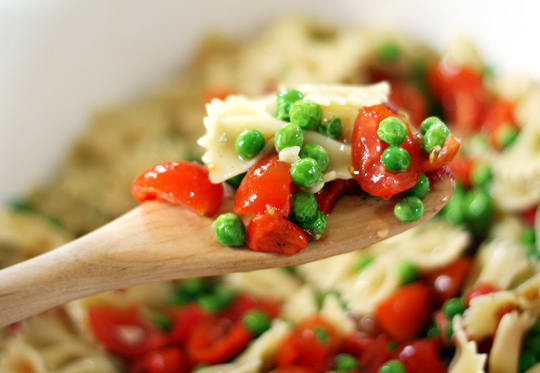boiled peas: (277, 93, 326, 242), (378, 119, 410, 172), (421, 117, 454, 150), (214, 212, 246, 245), (237, 132, 260, 160), (395, 201, 425, 221)
